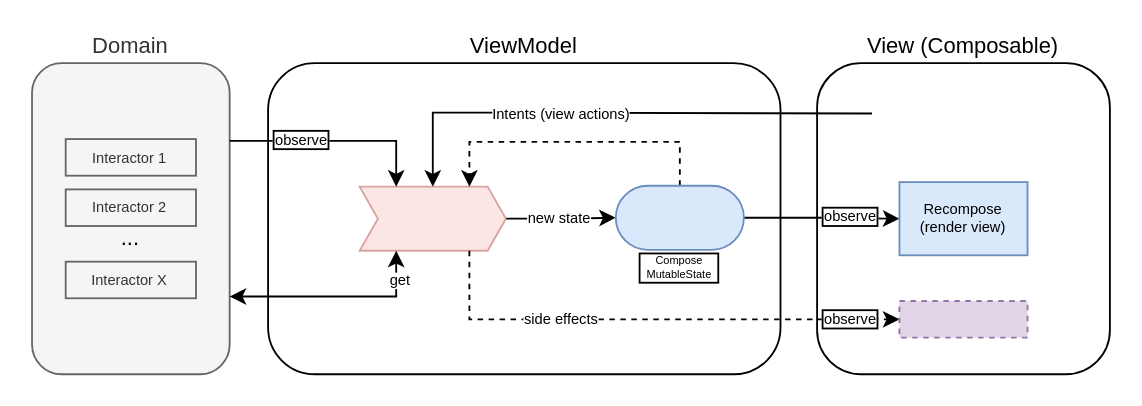
Image size: 1142x406. Some labels were removed from this diagram. Each missing label, with the centre of its shape:
"Current State" goes at (x=679, y=217).
"LaunchedEffect" goes at (x=963, y=318).
"Reducer" goes at (x=432, y=218).
